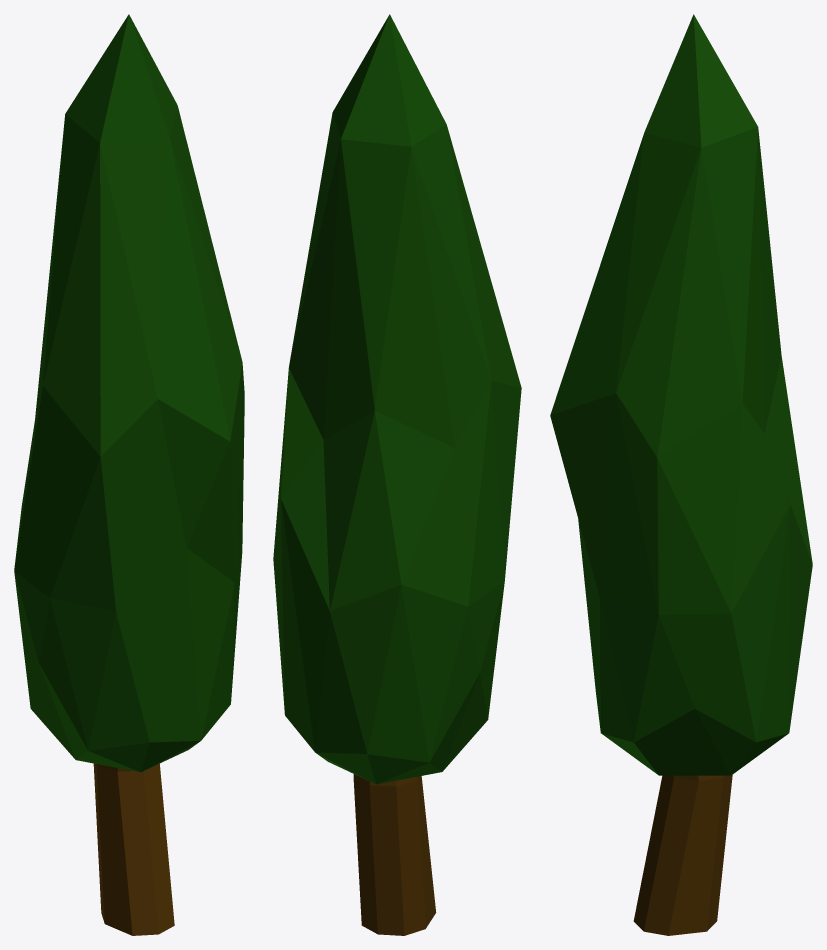
Rendered from Cypress2.fbx.
3 renders of one model, left to right at view 1: azimuth 30°, elevation 25°; view 2: azimuth 150°, elevation 25°; view 3: azimuth 270°, elevation 25°, orthographic.
Parts seen in each view (by area): view 1: Tree2; view 2: Tree2; view 3: Tree2.
Part boxes in pixels (x1,y1,x2,y2): Tree2: (14,14,244,935); Tree2: (273,14,521,935); Tree2: (550,14,812,935).
Size of the model in its own units: 194 by 859 by 225.
